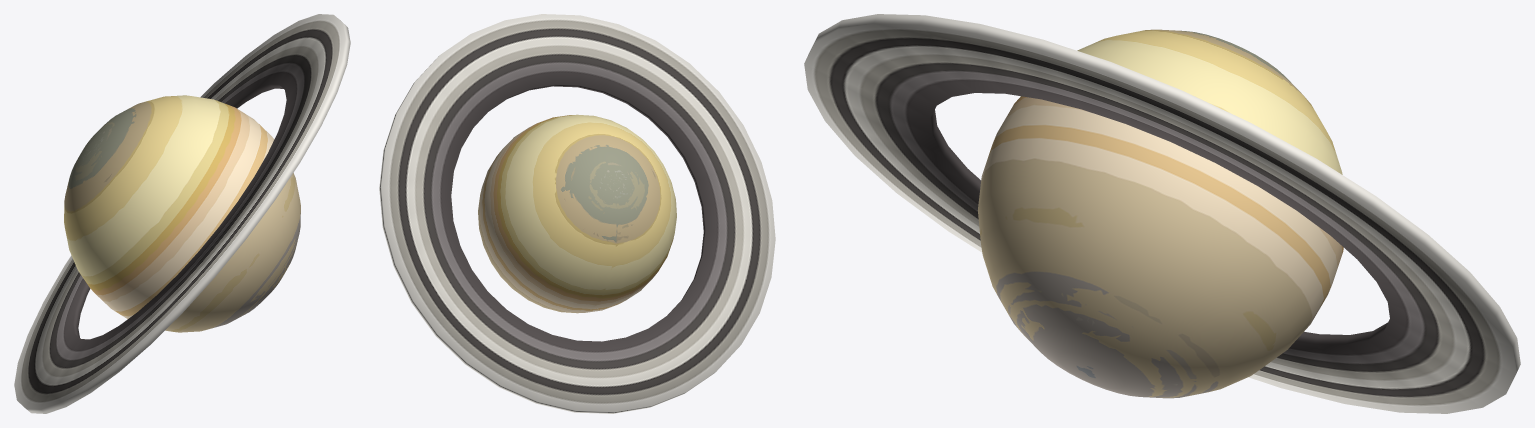
File: Saturn.glb
The picture shows the model from 3 angles, left to right: view 1: azimuth 30°, elevation 25°; view 2: azimuth 150°, elevation 25°; view 3: azimuth 270°, elevation 25°; orthographic projection. The views are drawn at different scales.
Visible parts, largest first — view 1: Saturn; view 2: Saturn; view 3: Saturn.
Boxes of the visible parts, box(x1,y1,x2,y2) form: Saturn: box(14, 14, 350, 413); Saturn: box(379, 14, 775, 413); Saturn: box(804, 14, 1520, 413).
Bounding box in the file's own units: 2.01 × 1.96 × 2.37.
1 material, 1 textured.
